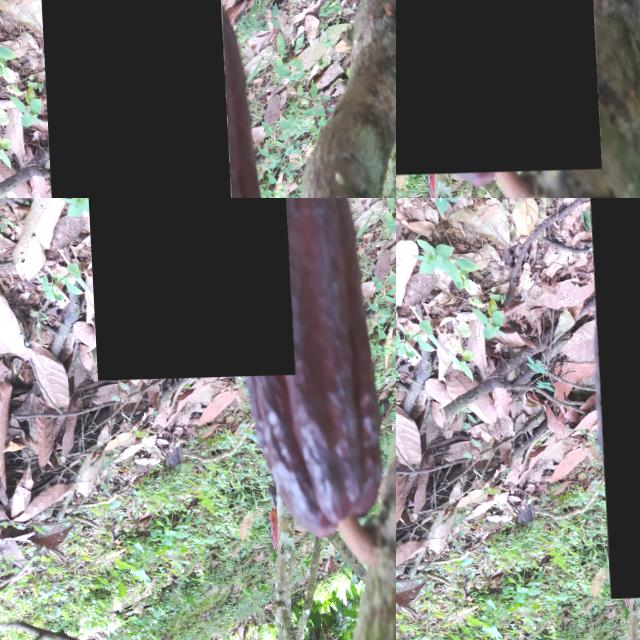Fitoftora: (614, 543, 624, 567)
Monilia: (36, 0, 234, 198), (82, 198, 292, 381), (396, 0, 597, 176)
Sana: (588, 198, 640, 600), (616, 567, 626, 613)
